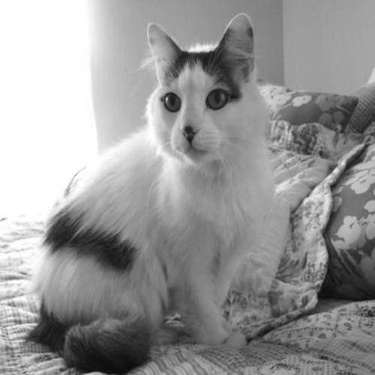cat: (36, 3, 274, 352)
